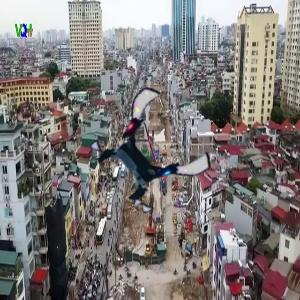drone: (96, 97, 203, 204)
